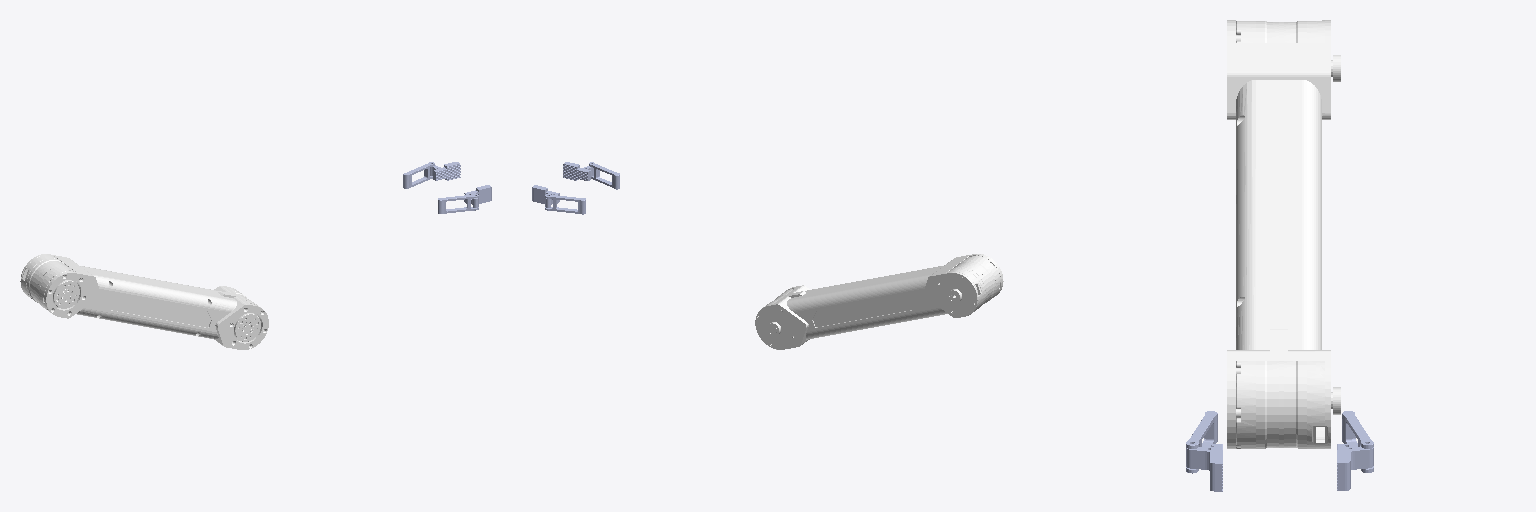
URDF robot description (airbot_play_v3_inspire_eg2_4c_v1):
<?xml version="1.0" encoding="utf-8" ?>
<!-- This URDF was automatically created by SolidWorks to URDF Exporter! Originally created by [author] ([email redacted]) 
     Commit Version: 1.6.0-4-g7f85cfe  Build Version: 1.6.7995.38578
     For more information, please see http://wiki.ros.org/sw_urdf_exporter -->
<robot name="airbot_play_v3_inspire_eg2_4c_v1">
    <link name="base_link">
        <inertial>
            <origin xyz="-0.029112 -4.9618E-05 0.037384" rpy="0 0 0" />
            <mass value="0.15758" />
            <inertia ixx="0.00020705" ixy="1.1867E-06" ixz="2.8584E-06" iyy="0.00027968" iyz="2.2254E-06" izz="0.00038174" />
        </inertial>
        <visual>
            <origin xyz="0 0 0" rpy="0 0 0" />
            <geometry>
                <mesh filename="package://airbot_play_v3_inspire_eg2_4c_v1/meshes/base_link.STL" />
            </geometry>
            <material name="">
                <color rgba="1 1 1 1" />
            </material>
        </visual>
        <collision>
            <origin xyz="0 0 0" rpy="0 0 0" />
            <geometry>
                <mesh filename="package://airbot_play_v3_inspire_eg2_4c_v1/meshes/base_link.STL" />
            </geometry>
        </collision>
    </link>
    <link name="link1">
        <inertial>
            <origin xyz="3.6472E-06 -0.0049778 -0.0097341" rpy="0 0 0" />
            <mass value="0.10631" />
            <inertia ixx="4.2478E-05" ixy="-1.0356E-09" ixz="7.3521E-09" iyy="5.9445E-05" iyz="5.0371E-06" izz="5.3189E-05" />
        </inertial>
        <visual>
            <origin xyz="0 0 0" rpy="0 0 0" />
            <geometry>
                <mesh filename="package://airbot_play_v3_inspire_eg2_4c_v1/meshes/link1.STL" />
            </geometry>
            <material name="">
                <color rgba="1 1 1 1" />
            </material>
        </visual>
        <collision>
            <origin xyz="0 0 0" rpy="0 0 0" />
            <geometry>
                <mesh filename="package://airbot_play_v3_inspire_eg2_4c_v1/meshes/link1.STL" />
            </geometry>
        </collision>
    </link>
    <joint name="joint1" type="revolute">
        <origin xyz="0 2.4795E-05 0.117" rpy="0 0 0" />
        <parent link="base_link" />
        <child link="link1" />
        <axis xyz="0 0 1" />
        <limit lower="-2" upper="3.14" effort="100" velocity="110" />
    </joint>
    <link name="link2">
        <inertial>
            <origin xyz="0.16303 0.01241 0.0045681" rpy="0 0 0" />
            <mass value="0.2275" />
            <inertia ixx="0.00011733" ixy="-7.1761E-05" ixz="1.7806E-05" iyy="0.0014114" iyz="2.8994E-06" izz="0.0014746" />
        </inertial>
        <visual>
            <origin xyz="0 0 0" rpy="0 0 0" />
            <geometry>
                <mesh filename="package://airbot_play_v3_inspire_eg2_4c_v1/meshes/link2.STL" />
            </geometry>
            <material name="">
                <color rgba="1 1 1 1" />
            </material>
        </visual>
        <collision>
            <origin xyz="0 0 0" rpy="0 0 0" />
            <geometry>
                <mesh filename="package://airbot_play_v3_inspire_eg2_4c_v1/meshes/link2.STL" />
            </geometry>
        </collision>
    </link>
    <joint name="joint2" type="revolute">
        <origin xyz="0 0 0" rpy="-1.5708 -0.38673 3.1416" />
        <parent link="link1" />
        <child link="link2" />
        <axis xyz="0 0 1" />
        <limit lower="-3.14" upper="0" effort="100" velocity="110" />
    </joint>
    <link name="link3">
        <inertial>
            <origin xyz="0.00031865 -0.16931 -0.00094181" rpy="0 0 0" />
            <mass value="0.14117" />
            <inertia ixx="0.00041644" ixy="-4.7139E-07" ixz="-2.1254E-09" iyy="7.1543E-05" iyz="3.7878E-06" izz="0.00042197" />
        </inertial>
        <visual>
            <origin xyz="0 0 0" rpy="0 0 0" />
            <geometry>
                <mesh filename="package://airbot_play_v3_inspire_eg2_4c_v1/meshes/link3.STL" />
            </geometry>
            <material name="">
                <color rgba="1 1 1 1" />
            </material>
        </visual>
        <collision>
            <origin xyz="0 0 0" rpy="0 0 0" />
            <geometry>
                <mesh filename="package://airbot_play_v3_inspire_eg2_4c_v1/meshes/link3.STL" />
            </geometry>
        </collision>
    </link>
    <joint name="joint3" type="revolute">
        <origin xyz="0.27009 0 0" rpy="0 0 -1.1841" />
        <parent link="link2" />
        <child link="link3" />
        <axis xyz="0 0 1" />
        <limit lower="0" upper="3.9" effort="100" velocity="110" />
    </joint>
    <link name="link4">
        <inertial>
            <origin xyz="-0.0051834 0.00019368 -0.0082929" rpy="0 0 0" />
            <mass value="0.057816" />
            <inertia ixx="3.2684E-05" ixy="-2.4663E-09" ixz="5.0516E-06" iyy="2.5781E-05" iyz="-1.1525E-09" izz="2.1405E-05" />
        </inertial>
        <visual>
            <origin xyz="0 0 0" rpy="0 0 0" />
            <geometry>
                <mesh filename="package://airbot_play_v3_inspire_eg2_4c_v1/meshes/link4.STL" />
            </geometry>
            <material name="">
                <color rgba="1 1 1 1" />
            </material>
        </visual>
        <collision>
            <origin xyz="0 0 0" rpy="0 0 0" />
            <geometry>
                <mesh filename="package://airbot_play_v3_inspire_eg2_4c_v1/meshes/link4.STL" />
            </geometry>
        </collision>
    </link>
    <joint name="joint4" type="revolute">
        <origin xyz="0.0029191 -0.30866 0" rpy="1.5708 0 0" />
        <parent link="link3" />
        <child link="link4" />
        <axis xyz="0 0 1" />
        <limit lower="-3.13" upper="3.13" effort="100" velocity="110" />
    </joint>
    <link name="link5">
        <inertial>
            <origin xyz="-0.039982 -0.00063731 -0.0029755" rpy="0 0 0" />
            <mass value="0.071803" />
            <inertia ixx="3.5881E-05" ixy="-1.0415E-07" ixz="-6.6076E-06" iyy="3.823E-05" iyz="1.4119E-08" izz="3.7202E-05" />
        </inertial>
        <visual>
            <origin xyz="0 0 0" rpy="0 0 0" />
            <geometry>
                <mesh filename="package://airbot_play_v3_inspire_eg2_4c_v1/meshes/link5.STL" />
            </geometry>
            <material name="">
                <color rgba="1 1 1 1" />
            </material>
        </visual>
        <collision>
            <origin xyz="0 0 0" rpy="0 0 0" />
            <geometry>
                <mesh filename="package://airbot_play_v3_inspire_eg2_4c_v1/meshes/link5.STL" />
            </geometry>
        </collision>
    </link>
    <joint name="joint5" type="revolute">
        <origin xyz="0 0 0" rpy="0 1.5708 0" />
        <parent link="link4" />
        <child link="link5" />
        <axis xyz="0 0 1" />
        <limit lower="-1.4" upper="1.57" effort="100" velocity="110" />
    </joint>
    <link name="link6">
        <inertial>
            <origin xyz="-2.3008E-11 3.2452E-12 -0.0024166" rpy="0 0 0" />
            <mass value="0.0026503" />
            <inertia ixx="3.2947E-07" ixy="3.5857E-16" ixz="1.0908E-16" iyy="3.2947E-07" iyz="2.3536E-16" izz="6.4653E-07" />
        </inertial>
        <visual>
            <origin xyz="0 0 0" rpy="0 0 0" />
            <geometry>
                <mesh filename="package://airbot_play_v3_inspire_eg2_4c_v1/meshes/link6.STL" />
            </geometry>
            <material name="">
                <color rgba="1 1 1 1" />
            </material>
        </visual>
        <collision>
            <origin xyz="0 0 0" rpy="0 0 0" />
            <geometry>
                <mesh filename="package://airbot_play_v3_inspire_eg2_4c_v1/meshes/link6.STL" />
            </geometry>
        </collision>
    </link>
    <joint name="joint6" type="revolute">
        <origin xyz="-0.0865 0 -0.002749" rpy="3.1416 -1.5708 0" />
        <parent link="link5" />
        <child link="link6" />
        <axis xyz="0 0 1" />
        <limit lower="-3.13" upper="3.13" effort="100" velocity="110" />
    </joint>
    <link name="gripper_link">
        <inertial>
            <origin xyz="-0.000179 -0.012920 0.115245" rpy="0 0 0" />
            <mass value="0.202483822224683" />
            <inertia ixx="8.72656224038094E-05" ixy="2.1157802312087E-09" ixz="4.46212258304102E-07" iyy="0.000110884338373626" iyz="3.53923491606382E-06" izz="9.50216775187288E-05" />
        </inertial>
        <visual>
            <origin xyz="0 0 -0.003" rpy="0 0 0" />
            <geometry>
                <mesh filename="package://airbot_play_v3_inspire_eg2_4c_v1/meshes/gripper_link.STL" />
            </geometry>
            <material name="">
                <color rgba="0.792156862745098 0.819607843137255 0.933333333333333 1" />
            </material>
        </visual>
        <collision>
            <origin xyz="0 0 -0.003" rpy="0 0 0" />
            <geometry>
                <mesh filename="package://airbot_play_v3_inspire_eg2_4c_v1/meshes/gripper_link.STL" />
            </geometry>
        </collision>
    </link>
    <joint name="joint7" type="fixed">
        <origin xyz="0 0 0.07752" rpy="0 3.14 1.57" />
        <parent link="link6" />
        <child link="gripper_link" />
    </joint>
    <link name="gripper_link10">
        <inertial>
            <origin xyz="0.0162376775855017 0.00170828143838967 1.60704782814491E-14" rpy="0 0 0" />
            <mass value="0.00248574193257273" />
            <inertia ixx="1.1187321281772E-07" ixy="-6.68088965340704E-19" ixz="-1.14085928959275E-18" iyy="6.84359115875508E-07" iyz="-3.99246934174549E-19" izz="5.89072994948579E-07" />
        </inertial>
        <visual>
            <origin xyz="0 0 0" rpy="0 0 0" />
            <geometry>
                <mesh filename="package://airbot_play_v3_inspire_eg2_4c_v1/meshes/gripper_link10.STL" />
            </geometry>
            <material name="">
                <color rgba="0.792156862745098 0.819607843137255 0.933333333333333 1" />
            </material>
        </visual>
        <collision>
            <origin xyz="0 0 0" rpy="0 0 0" />
            <geometry>
                <mesh filename="package://airbot_play_v3_inspire_eg2_4c_v1/meshes/gripper_link10.STL" />
            </geometry>
        </collision>
    </link>
    <joint name="joint_gripper10" type="revolute">
        <origin xyz="-0.038533 0.00036 0.18735" rpy="-1.5708 -1.304 3.1416" />
        <parent link="gripper_link" />
        <child link="gripper_link10" />
        <axis xyz="0 0 1" />
        <limit lower="-10" upper="10" effort="100" velocity="110" />
    </joint>
    <link name="gripper_link11">
        <inertial>
            <origin xyz="-0.0110043692378349 0.00972866237979003 -3.15436854414486E-09" rpy="0 0 0" />
            <mass value="0.00450681926243327" />
            <inertia ixx="1.99225999101227E-07" ixy="9.189631443366E-08" ixz="1.32669175648538E-13" iyy="5.14550853833888E-07" iyz="-4.49972931710022E-14" izz="5.32027763416069E-07" />
        </inertial>
        <visual>
            <origin xyz="0 0 0" rpy="0 0 0" />
            <geometry>
                <mesh filename="package://airbot_play_v3_inspire_eg2_4c_v1/meshes/gripper_link11.STL" />
            </geometry>
            <material name="">
                <color rgba="0.792156862745098 0.819607843137255 0.933333333333333 1" />
            </material>
        </visual>
        <collision>
            <origin xyz="0 0 0" rpy="0 0 0" />
            <geometry>
                <mesh filename="package://airbot_play_v3_inspire_eg2_4c_v1/meshes/gripper_link11.STL" />
            </geometry>
        </collision>
    </link>
    <joint name="joint_gripper11" type="revolute">
        <origin xyz="0.041998 -0.00037577 0" rpy="0 0 2.8658" />
        <parent link="gripper_link10" />
        <child link="gripper_link11" />
        <axis xyz="0 0 1" />
        <limit lower="-10" upper="10" effort="100" velocity="110" />
    </joint>
    <link name="gripper_link20">
        <inertial>
            <origin xyz="0.0160458916846533 0.00170815882510347 -1.61815005839117E-14" rpy="0 0 0" />
            <mass value="0.0024857419325728" />
            <inertia ixx="1.11873212817726E-07" ixy="6.5445041140093E-19" ixz="1.13838047913434E-18" iyy="6.84359115875493E-07" iyz="-3.98790262211301E-19" izz="5.8907299494856E-07" />
        </inertial>
        <visual>
            <origin xyz="0 0 0" rpy="0 0 0" />
            <geometry>
                <mesh filename="package://airbot_play_v3_inspire_eg2_4c_v1/meshes/gripper_link20.STL" />
            </geometry>
            <material name="">
                <color rgba="0.792156862745098 0.819607843137255 0.933333333333333 1" />
            </material>
        </visual>
        <collision>
            <origin xyz="0 0 0" rpy="0 0 0" />
            <geometry>
                <mesh filename="package://airbot_play_v3_inspire_eg2_4c_v1/meshes/gripper_link20.STL" />
            </geometry>
        </collision>
    </link>
    <joint name="joint_gripper20" type="revolute">
        <origin xyz="0.041464 0.00036 0.18664" rpy="1.5708 -1.304 0" />
        <parent link="gripper_link" />
        <child link="gripper_link20" />
        <axis xyz="0 0 1" />
        <limit lower="-10" upper="10" effort="100" velocity="110" />
    </joint>
    <link name="gripper_link21">
        <inertial>
            <origin xyz="-0.0117059608928904 -0.0140030860218414 3.11077152925776E-09" rpy="0 0 0" />
            <mass value="0.00450681912675432" />
            <inertia ixx="2.02615006762524E-07" ixy="-9.74786442765277E-08" ixz="-1.30502494006714E-13" iyy="5.11161832405036E-07" iyz="-4.71432886532517E-14" izz="5.32027750665231E-07" />
        </inertial>
        <visual>
            <origin xyz="0 0 0" rpy="0 0 0" />
            <geometry>
                <mesh filename="package://airbot_play_v3_inspire_eg2_4c_v1/meshes/gripper_link21.STL" />
            </geometry>
            <material name="">
                <color rgba="0.792156862745098 0.819607843137255 0.933333333333333 1" />
            </material>
        </visual>
        <collision>
            <origin xyz="0 0 0" rpy="0 0 0" />
            <geometry>
                <mesh filename="package://airbot_play_v3_inspire_eg2_4c_v1/meshes/gripper_link21.STL" />
            </geometry>
        </collision>
    </link>
    <joint name="joint_gripper21" type="revolute">
        <origin xyz="0.041998 -0.00037577 0" rpy="0 0 -2.8837" />
        <parent link="gripper_link20" />
        <child link="gripper_link21" />
        <axis xyz="0 0 1" />
        <limit lower="-10" upper="10" effort="100" velocity="110" />
    </joint>
    <link name="custom_end_link">
        <inertial>
            <origin xyz="0 0 0" rpy="0 0 0" />
            <mass value="1E-15" />
            <inertia ixx="1E-11" ixy="1E-15" ixz="1E-15" iyy="1E-11" iyz="1E-15" izz="1E-11" />
        </inertial>
    </link>
    <joint name="joint_custom_end" type="fixed">
        <origin xyz="0 0 0.255" rpy="1.5708 -1.5708 0" />
        <parent link="gripper_link" />
        <child link="custom_end_link" />
    </joint>
    <transmission name="trans_joint1">
        <type>transmission_interface/SimpleTransmission</type>
        <joint name="joint1">
            <hardwareInterface>hardware_interface/PositionJointInterface</hardwareInterface>
        </joint>
        <actuator name="joint1_motor">
            <hardwareInterface>hardware_interface/PositionJointInterface</hardwareInterface>
            <mechanicalReduction>1</mechanicalReduction>
        </actuator>
    </transmission>
    <transmission name="trans_joint2">
        <type>transmission_interface/SimpleTransmission</type>
        <joint name="joint2">
            <hardwareInterface>hardware_interface/PositionJointInterface</hardwareInterface>
        </joint>
        <actuator name="joint2_motor">
            <hardwareInterface>hardware_interface/PositionJointInterface</hardwareInterface>
            <mechanicalReduction>1</mechanicalReduction>
        </actuator>
    </transmission>
    <transmission name="trans_joint3">
        <type>transmission_interface/SimpleTransmission</type>
        <joint name="joint3">
            <hardwareInterface>hardware_interface/PositionJointInterface</hardwareInterface>
        </joint>
        <actuator name="joint3_motor">
            <hardwareInterface>hardware_interface/PositionJointInterface</hardwareInterface>
            <mechanicalReduction>1</mechanicalReduction>
        </actuator>
    </transmission>
    <transmission name="trans_joint4">
        <type>transmission_interface/SimpleTransmission</type>
        <joint name="joint4">
            <hardwareInterface>hardware_interface/PositionJointInterface</hardwareInterface>
        </joint>
        <actuator name="joint4_motor">
            <hardwareInterface>hardware_interface/PositionJointInterface</hardwareInterface>
            <mechanicalReduction>1</mechanicalReduction>
        </actuator>
    </transmission>
    <transmission name="trans_joint5">
        <type>transmission_interface/SimpleTransmission</type>
        <joint name="joint5">
            <hardwareInterface>hardware_interface/PositionJointInterface</hardwareInterface>
        </joint>
        <actuator name="joint5_motor">
            <hardwareInterface>hardware_interface/PositionJointInterface</hardwareInterface>
            <mechanicalReduction>1</mechanicalReduction>
        </actuator>
    </transmission>
    <transmission name="trans_joint6">
        <type>transmission_interface/SimpleTransmission</type>
        <joint name="joint6">
            <hardwareInterface>hardware_interface/PositionJointInterface</hardwareInterface>
        </joint>
        <actuator name="joint6_motor">
            <hardwareInterface>hardware_interface/PositionJointInterface</hardwareInterface>
            <mechanicalReduction>1</mechanicalReduction>
        </actuator>
    </transmission>
    <transmission name="trans_joint_gripper10">
        <type>transmission_interface/SimpleTransmission</type>
        <joint name="joint_gripper10">
            <hardwareInterface>hardware_interface/PositionJointInterface</hardwareInterface>
        </joint>
        <actuator name="joint_gripper10_motor">
            <hardwareInterface>hardware_interface/PositionJointInterface</hardwareInterface>
            <mechanicalReduction>1</mechanicalReduction>
        </actuator>
    </transmission>
    <transmission name="trans_joint_gripper11">
        <type>transmission_interface/SimpleTransmission</type>
        <joint name="joint_gripper11">
            <hardwareInterface>hardware_interface/PositionJointInterface</hardwareInterface>
        </joint>
        <actuator name="joint_gripper11_motor">
            <hardwareInterface>hardware_interface/PositionJointInterface</hardwareInterface>
            <mechanicalReduction>1</mechanicalReduction>
        </actuator>
    </transmission>
    <transmission name="trans_joint_gripper20">
        <type>transmission_interface/SimpleTransmission</type>
        <joint name="joint_gripper20">
            <hardwareInterface>hardware_interface/PositionJointInterface</hardwareInterface>
        </joint>
        <actuator name="joint_gripper20_motor">
            <hardwareInterface>hardware_interface/PositionJointInterface</hardwareInterface>
            <mechanicalReduction>1</mechanicalReduction>
        </actuator>
    </transmission>
    <transmission name="trans_joint_gripper21">
        <type>transmission_interface/SimpleTransmission</type>
        <joint name="joint_gripper21">
            <hardwareInterface>hardware_interface/PositionJointInterface</hardwareInterface>
        </joint>
        <actuator name="joint_gripper21_motor">
            <hardwareInterface>hardware_interface/PositionJointInterface</hardwareInterface>
            <mechanicalReduction>1</mechanicalReduction>
        </actuator>
    </transmission>
    <gazebo>
        <plugin name="gazebo_ros_control">
            <robotNamespace>/</robotNamespace>
        </plugin>
    </gazebo>
</robot>

--- What the picture shows (computed from the rendered views, not written in the file) ---
Views: 3 orthographic renders of the robot side by side, from view 1: azimuth 30°, elevation 25°; view 2: azimuth 150°, elevation 25°; view 3: azimuth 270°, elevation 25°.
Model airbot_play_v3_inspire_eg2_4c_v1 with 13 links and 12 joints (10 revolute, 2 fixed), rooted at base_link, posed all joints at 0.
Visible links, largest first — view 1: link2; view 2: link2; view 3: link2, gripper_link11, gripper_link21, gripper_link10, gripper_link20.
Boxes of the visible links, <box> form: link2: <box>20,254,268,349</box>; link2: <box>755,254,1003,349</box>; link2: <box>1227,20,1340,448</box>; gripper_link11: <box>1337,444,1373,490</box>; gripper_link21: <box>1186,444,1222,491</box>; gripper_link10: <box>1342,411,1373,472</box>; gripper_link20: <box>1186,411,1217,473</box>.
Bounding box of the posed robot: 0.5961 × 0.1097 × 0.1556 m (x, y, z).
5 mesh visuals loaded from 12 distinct referenced files (5 binary STL); not drawn: 7 (reference not matched to a file when rendering).